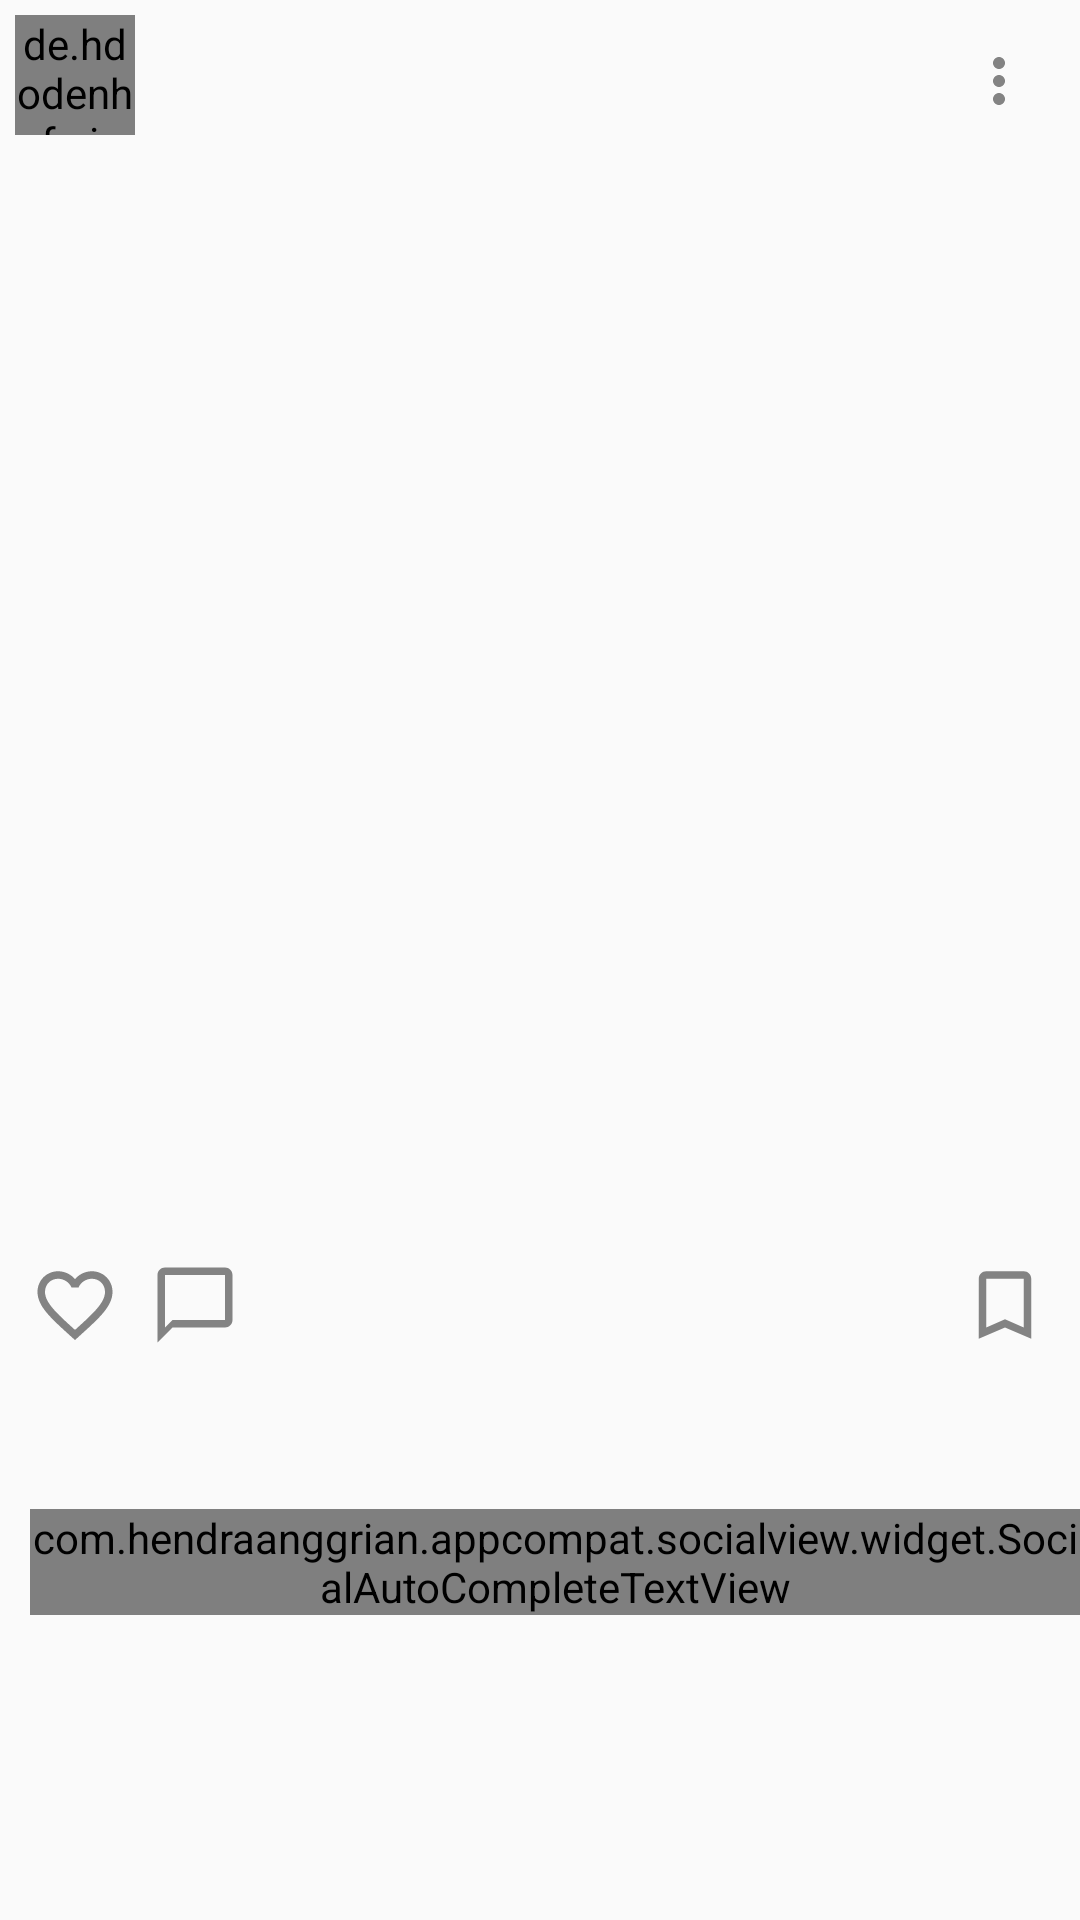

Screen size 1080 x 1920. Icon name, then its box in pixels as (x1, y1, x2, y2):
comment: (157, 1267, 233, 1342)
like: (37, 1271, 113, 1340)
more: (993, 57, 1005, 105)
save: (978, 1271, 1032, 1339)
